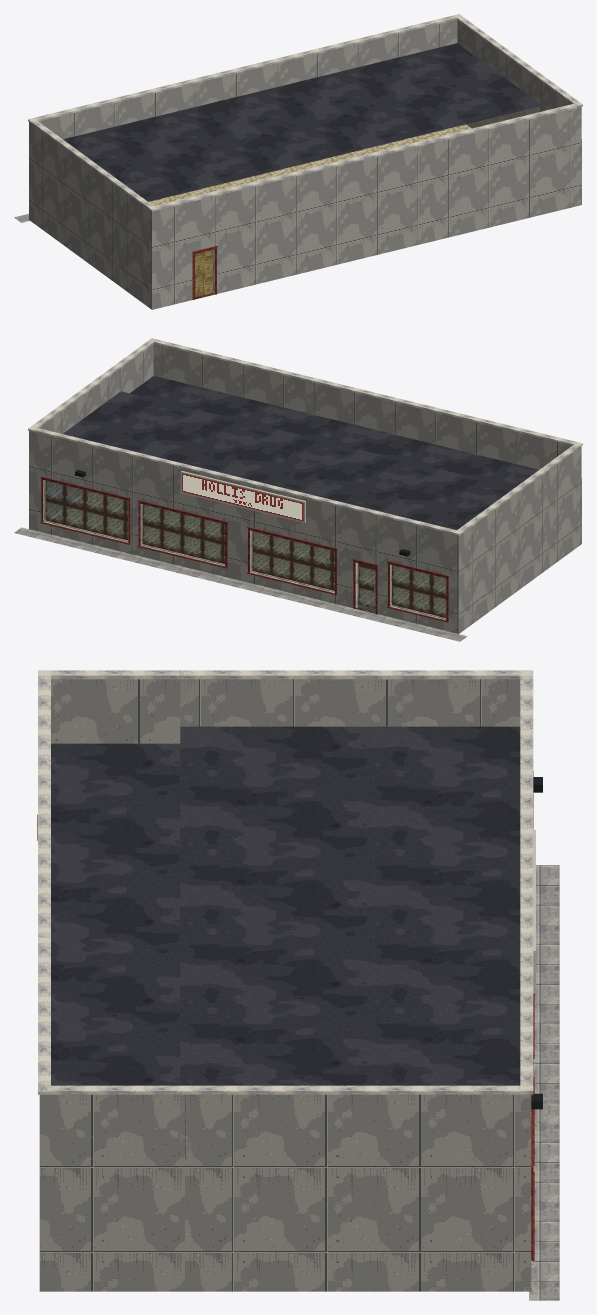
The model's file is COM_Pharmacy.glb.
3 views of the same model, one above another, from view 1: azimuth 30°, elevation 25°; view 2: azimuth 150°, elevation 25°; view 3: azimuth 270°, elevation 25° (orthographic). The views are drawn at different scales.
Visible parts, largest first — view 1: COM_Pharmacy_Exterior, COM_Pharmacy_Interior, INT_Door_BackExit; view 2: COM_Pharmacy_Exterior, COM_Pharmacy_Interior, INT_Door_Entrance; view 3: COM_Pharmacy_Exterior.
Boxes of the visible parts, x1=… form: COM_Pharmacy_Exterior: x1=14, y1=14, x2=582, y2=309; COM_Pharmacy_Interior: x1=149, y1=106, x2=540, y2=205; INT_Door_BackExit: x1=195, y1=250, x2=212, y2=297; COM_Pharmacy_Exterior: x1=14, y1=338, x2=582, y2=641; COM_Pharmacy_Interior: x1=46, y1=481, x2=445, y2=615; INT_Door_Entrance: x1=357, y1=563, x2=375, y2=611; COM_Pharmacy_Exterior: x1=37, y1=670, x2=559, y2=1300.
Size of what is drawn, in the model's own units: 22 by 4.77 by 11.15.
Materials: 16 (16 with a texture image).
